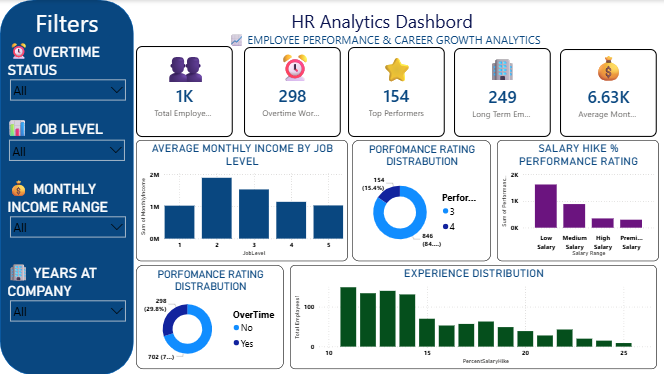

The dashboard page shown, as its layout file describes it:
{"tool":"powerbi","page":{"name":"Page 2","canvas":[1280,720],"ordinal":1},"visuals":[{"type":"shape","box":[188.1,0,1091.9,77.3],"z":0},{"type":"shape","box":[199.9,40.3,1080.1,72.2],"z":500},{"type":"shape","box":[0,0,257,720.6],"z":1000},{"type":"shape","box":[33.6,0,191.5,77.3],"z":3000},{"type":"slicer","title":"⏰ OVERTIME STATUS","fields":{"Values":["page2.OverTime"]},"box":[10.1,77.3,241.9,152.9],"z":3001},{"type":"slicer","title":"📊 JOB LEVEL","fields":{"Values":["page2.JobLevel"]},"box":[8.4,225.1,241.9,134.4],"z":3002},{"type":"slicer","title":"💰 MONTHLY INCOME RANGE","fields":{"Values":["page2.Salary Range"]},"box":[10.1,339.3,241.9,151.2],"z":3003},{"type":"slicer","title":"🏢 YEARS AT COMPANY","fields":{"Values":["page2.YearsAtCompany"]},"box":[10.1,502.3,241.9,157.9],"z":3004},{"type":"cardVisual","fields":{"Data":["page2.Total Employees1"]},"box":[261.4,88.4,186.4,174.9],"z":3005},{"type":"cardVisual","fields":{"Data":["page2.Overtime Workers"]},"box":[468.9,90.3,186.4,173],"z":3006},{"type":"cardVisual","fields":{"Data":["page2.Top Performers"]},"box":[668.8,90.3,186.4,173],"z":3007},{"type":"cardVisual","fields":{"Data":["page2.Long Term Employees"]},"box":[872.6,92.3,186.4,171.1],"z":3008},{"type":"cardVisual","fields":{"Data":["page2.Average Monthly Income"]},"box":[1076.3,94.2,186.4,169.1],"z":3009},{"type":"shape","box":[296,61.5,123,117.2],"z":3010},{"type":"shape","box":[517,80.7,92.3,88.4],"z":3011},{"type":"shape","box":[718.8,80.7,88.4,99.9],"z":3012},{"type":"shape","box":[918.7,92.3,94.2,78.8],"z":3013},{"type":"shape","box":[1116.6,82.6,105.7,92.3],"z":3014},{"type":"columnChart","title":"AVERAGE MONTHLY INCOME BY JOB LEVEL","fields":{"Y":["Sum(page2.MonthlyIncome)"],"Category":["page2.JobLevel"]},"box":[261.4,269.1,407.4,232.6],"z":3015},{"type":"donutChart","title":"PORFOMANCE RATING DISTRABUTION","fields":{"Category":["page2.PerformanceRating"],"Y":["page2.Total Employees1"]},"box":[676.5,269.1,267.1,232.6],"z":3016},{"type":"columnChart","title":"SALARY HIKE % PERFORMANCE RATING","fields":{"Category":["page2.Salary Range"],"Y":["Sum(page2.PerformanceRating)"]},"box":[955.2,269.1,311.4,232.6],"z":3017},{"type":"donutChart","title":"PORFOMANCE RATING DISTRABUTION","fields":{"Y":["page2.Total Employees1"],"Category":["page2.OverTime"]},"box":[261.4,509.3,284.4,199.9],"z":3019},{"type":"columnChart","title":"EXPERIENCE DISTRIBUTION","fields":{"Category":["page2.PercentSalaryHike"],"Y":["page2.Total Employees1"]},"box":[557.4,509.3,705.3,199.9],"z":3020}]}

Visuals, with their boxes in screenshot pixels (x1, y1, x2, y2), scaled from the page's 1280x720 canvas onto the 664x374 screenshot:
shape: 98:0:663:40
shape: 104:21:663:58
shape: 0:0:133:373
shape: 17:0:117:40
"⏰ OVERTIME STATUS" slicer: 5:40:131:120
"📊 JOB LEVEL" slicer: 4:117:130:187
"💰 MONTHLY INCOME RANGE" slicer: 5:176:131:255
"🏢 YEARS AT COMPANY" slicer: 5:261:131:343
cardVisual - page2.Total Employees1: 136:46:232:137
cardVisual - page2.Overtime Workers: 243:47:340:137
cardVisual - page2.Top Performers: 347:47:444:137
cardVisual - page2.Long Term Employees: 453:48:549:137
cardVisual - page2.Average Monthly Income: 558:49:655:137
shape: 154:32:217:93
shape: 268:42:316:88
shape: 373:42:419:94
shape: 477:48:525:89
shape: 579:43:634:91
"AVERAGE MONTHLY INCOME BY JOB LEVEL" columnChart: 136:140:347:261
"PORFOMANCE RATING DISTRABUTION" donutChart: 351:140:489:261
"SALARY HIKE % PERFORMANCE RATING" columnChart: 496:140:657:261
"PORFOMANCE RATING DISTRABUTION" donutChart: 136:265:283:368
"EXPERIENCE DISTRIBUTION" columnChart: 289:265:655:368
